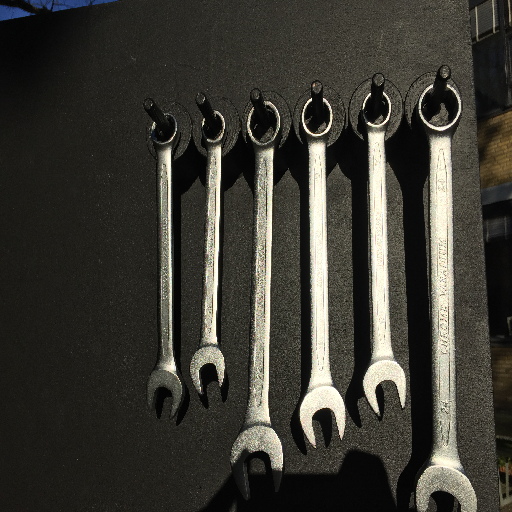bottom: (226, 421, 288, 501), (409, 459, 484, 512), (297, 381, 349, 449), (361, 355, 409, 419), (187, 342, 230, 397), (145, 363, 185, 421)
top: (415, 79, 466, 140), (246, 99, 283, 150), (299, 95, 335, 140), (359, 90, 395, 133), (147, 111, 181, 149), (198, 109, 229, 147)
